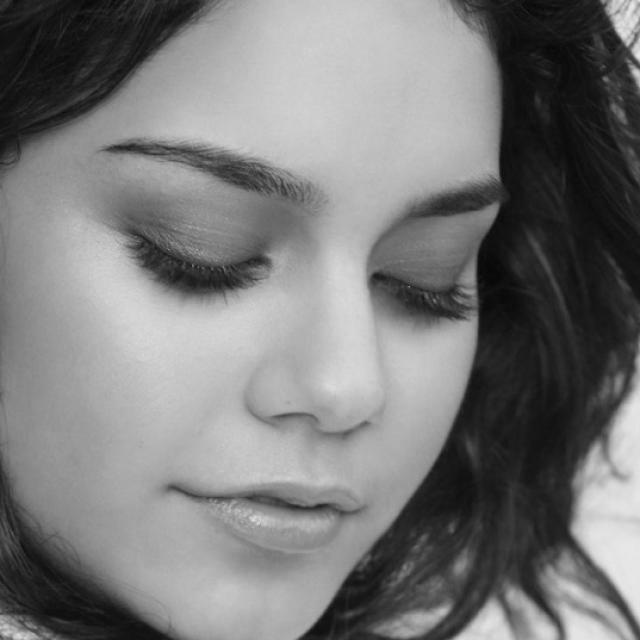real: (0, 0, 505, 640), (98, 192, 479, 340)
